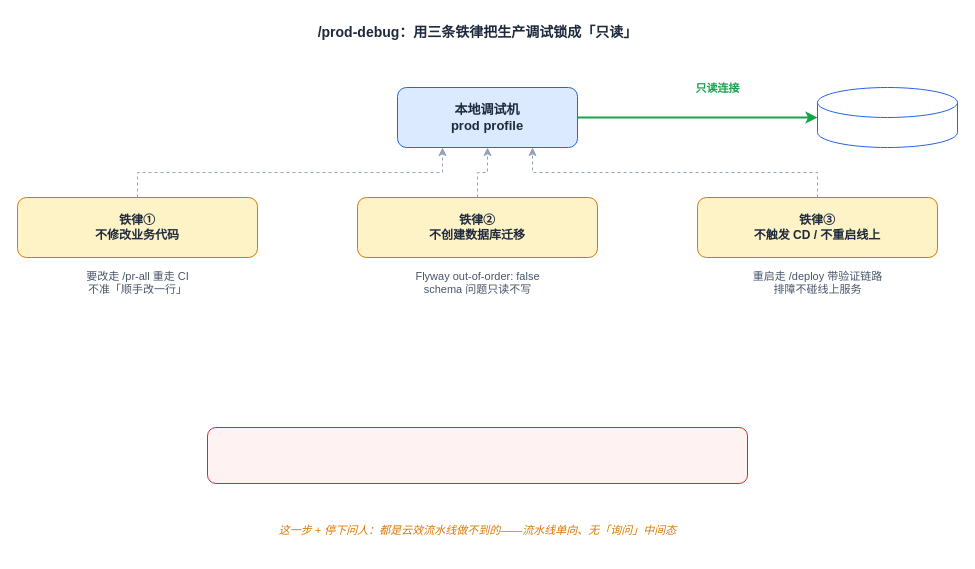
The diagram is 975 pixels wide and 569 high, and some of its shapes have lost their labels. The shapes that lost their labels are listed below. From the top down, each one's centre as x and y in pixels, then its label:
At point 887,117: "生产 MySQL / Redis".
At point 477,455: "高危操作停下问人 涉及大范围重构 / 架构改动 → 汇报等指示".
